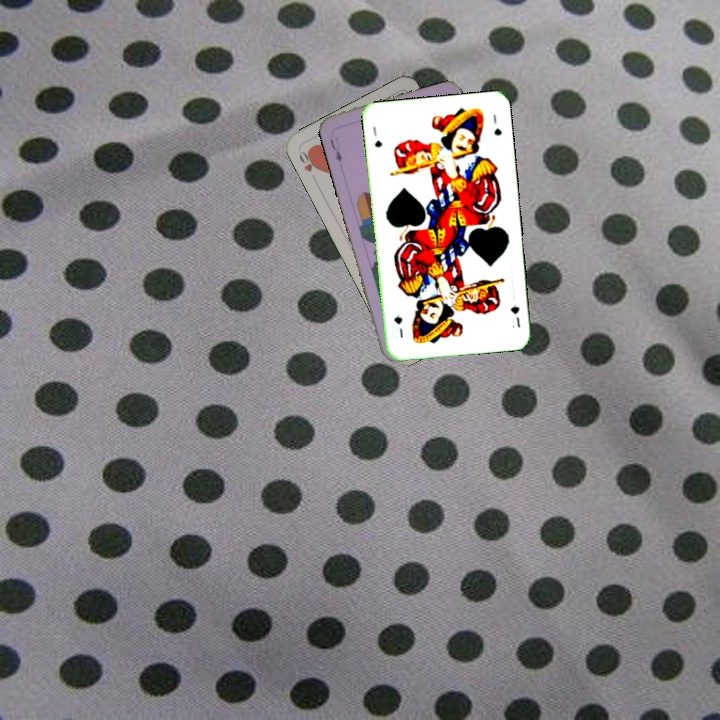EU: (326, 133, 345, 165)
GU: (507, 300, 523, 331), (369, 122, 384, 150)
HO: (295, 147, 321, 175)
